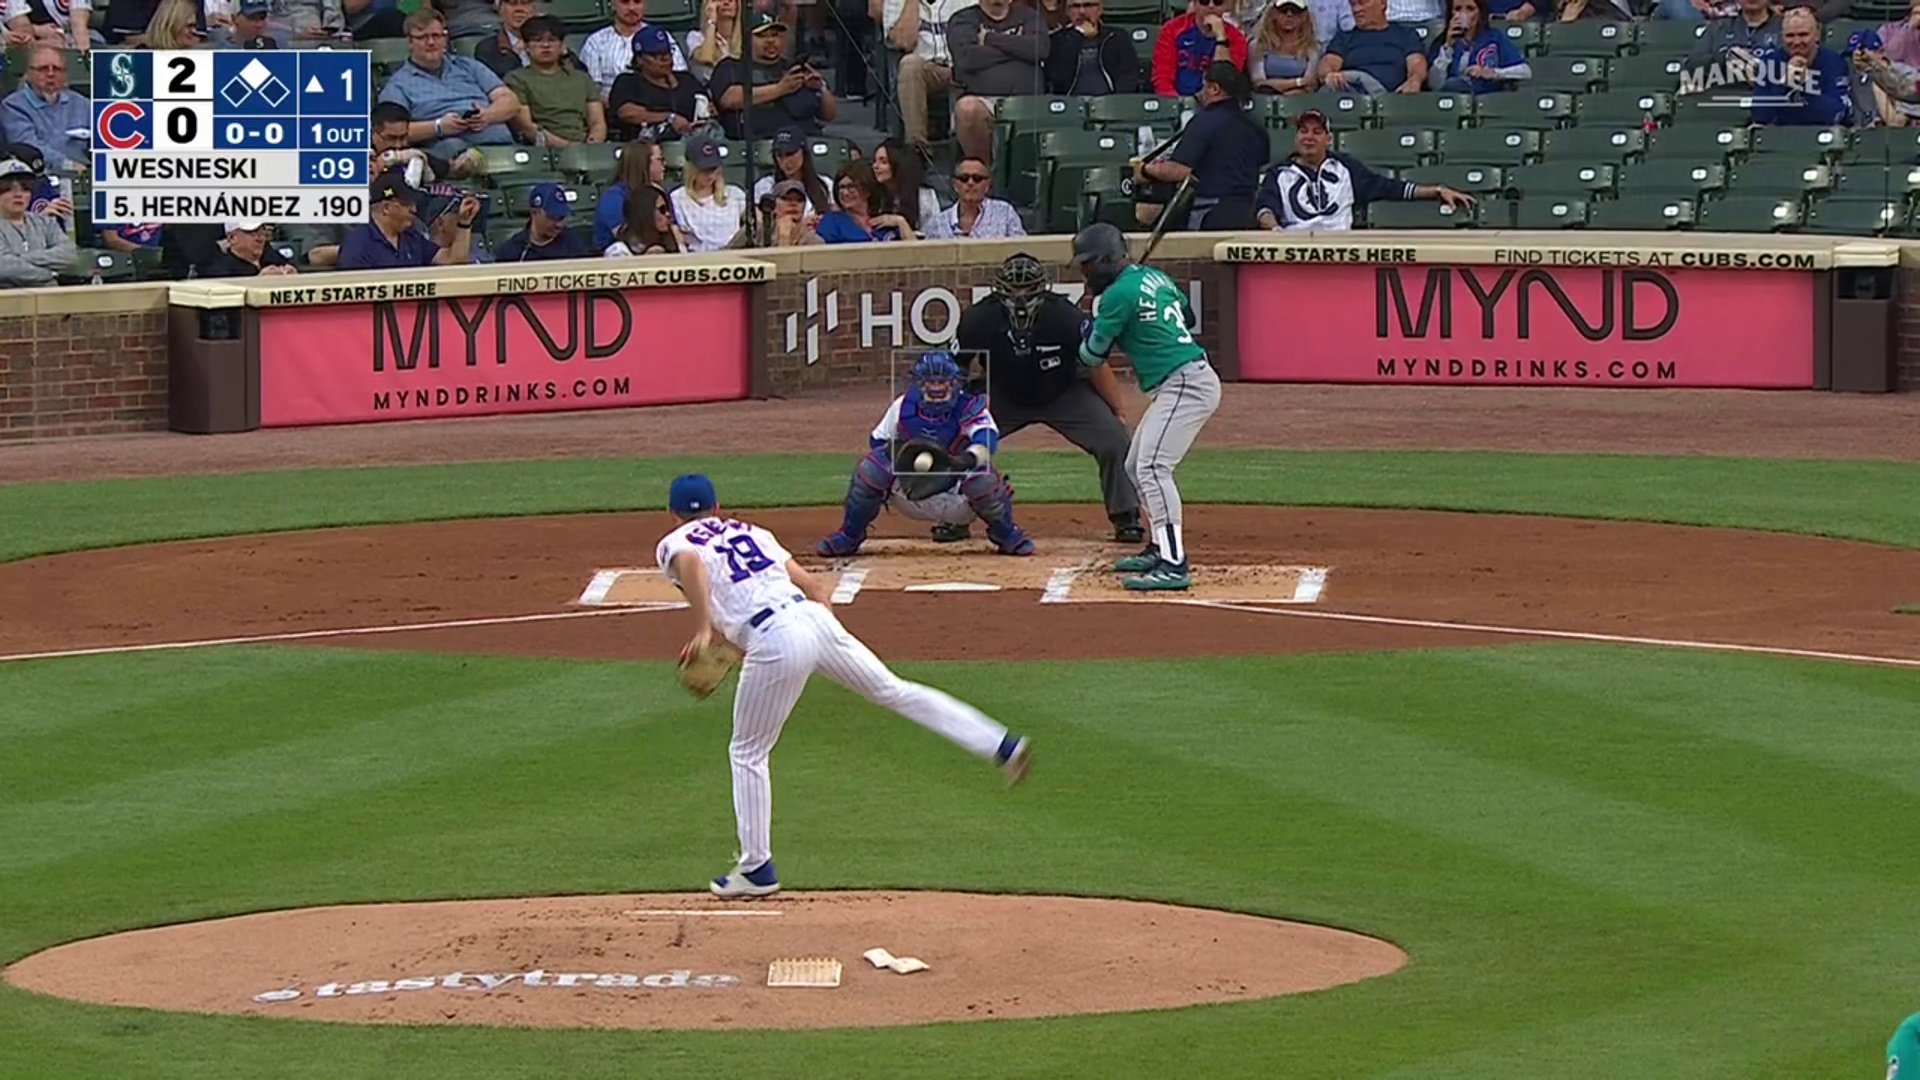baseball: (913, 451, 932, 472)
